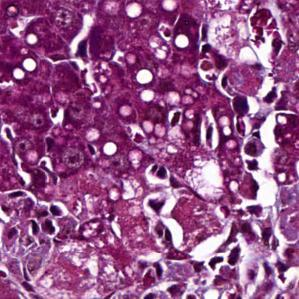ballooning: (182, 158, 228, 203)
